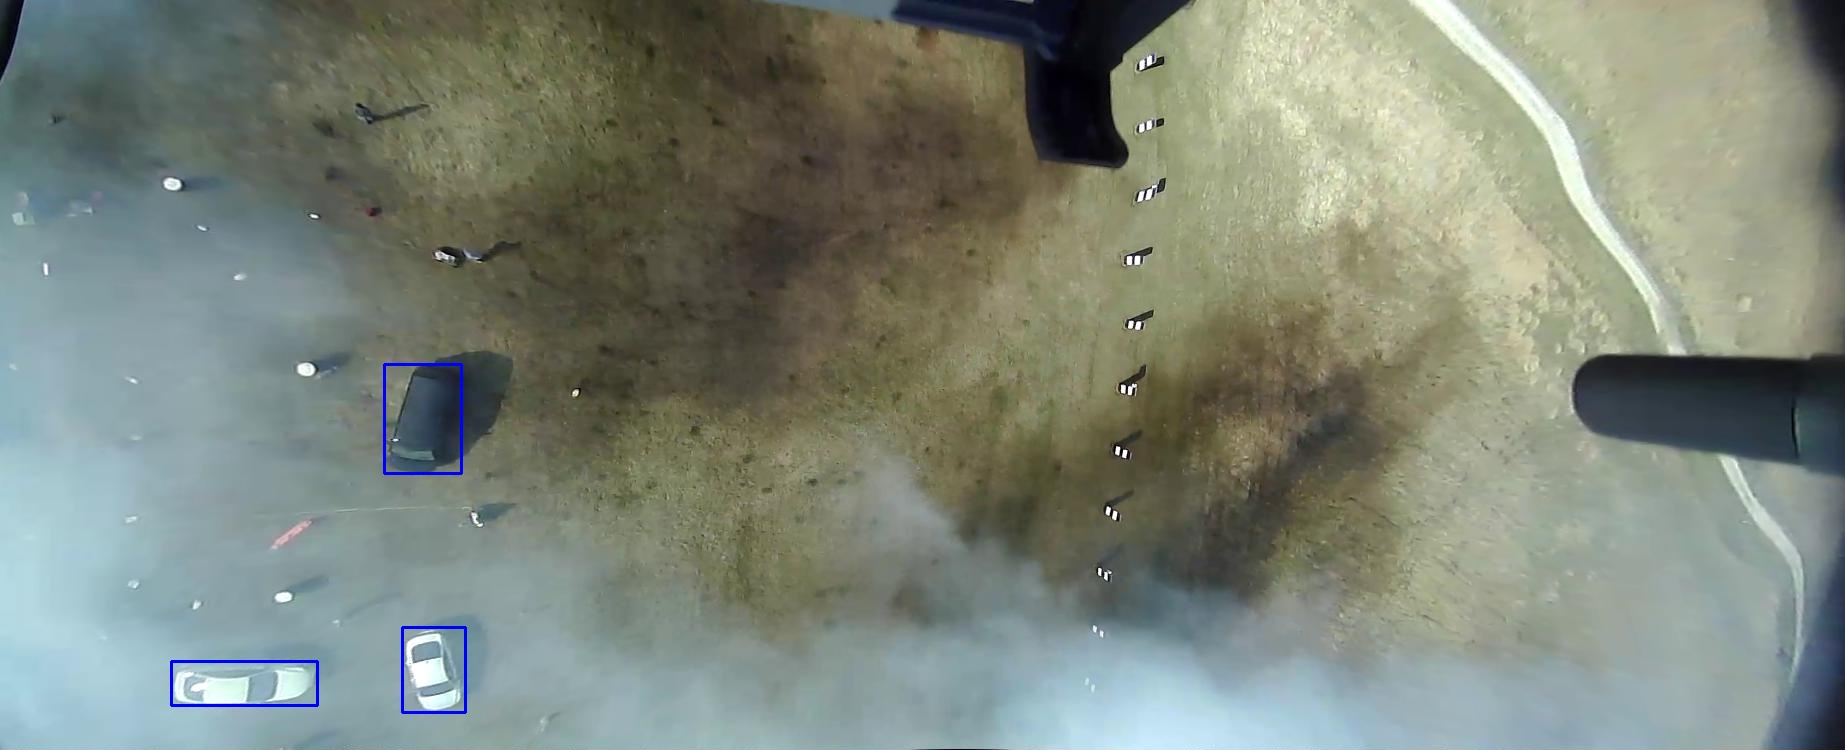vehicle: (364, 384, 473, 462), (661, 171, 705, 317), (627, 401, 712, 465)
